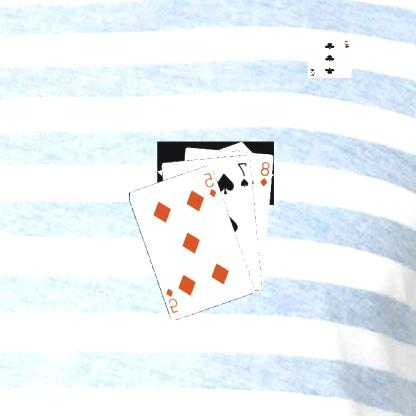5D: (165, 285, 182, 315), (203, 170, 220, 198)
7S: (237, 160, 252, 188)
8D: (260, 159, 272, 188)
